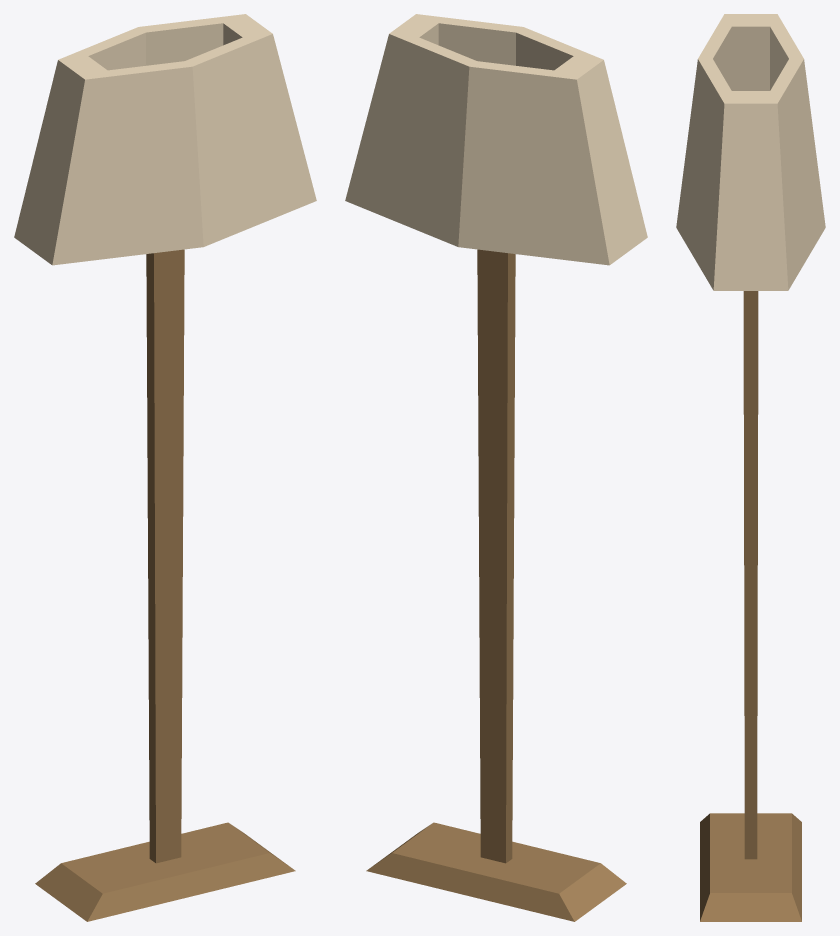
Rendered from linen-floor-lamp.glb.
3 renders of one model, left to right at view 1: azimuth 30°, elevation 25°; view 2: azimuth 150°, elevation 25°; view 3: azimuth 270°, elevation 25°, orthographic. The views are drawn at different scales.
Visible parts, largest first — view 1: lampRoundFloor; view 2: lampRoundFloor; view 3: lampRoundFloor.
Part boxes in pixels (bbox=[...]): lampRoundFloor: bbox=[14, 14, 316, 921]; lampRoundFloor: bbox=[345, 14, 647, 921]; lampRoundFloor: bbox=[676, 14, 825, 921].
Bounding box in the file's own units: 0.4 × 1.2 × 0.2.
